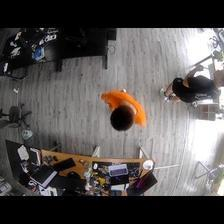normal: (159, 66, 224, 105), (98, 87, 148, 132)
